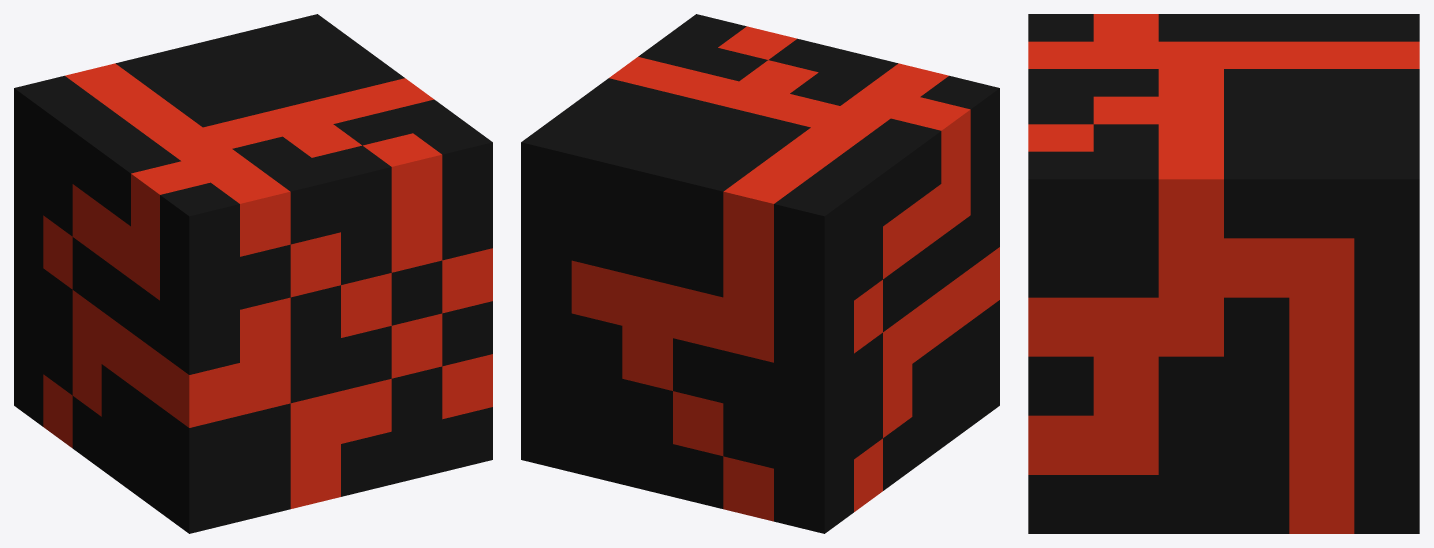
The model's file is virus_floating_chase.fbx.
3 renders of one model, left to right at view 1: azimuth 30°, elevation 25°; view 2: azimuth 150°, elevation 25°; view 3: azimuth 270°, elevation 25°, orthographic. The views are drawn at different scales.
Visible parts, largest first — view 1: virus_floating_chase; view 2: virus_floating_chase; view 3: virus_floating_chase.
Boxes of the visible parts, bbox=[...] form: virus_floating_chase: bbox=[14, 14, 492, 533]; virus_floating_chase: bbox=[521, 14, 999, 533]; virus_floating_chase: bbox=[1028, 14, 1419, 533].
Size of the model in its own units: 0.6 by 0.6 by 0.6.
1 material, 1 textured.
